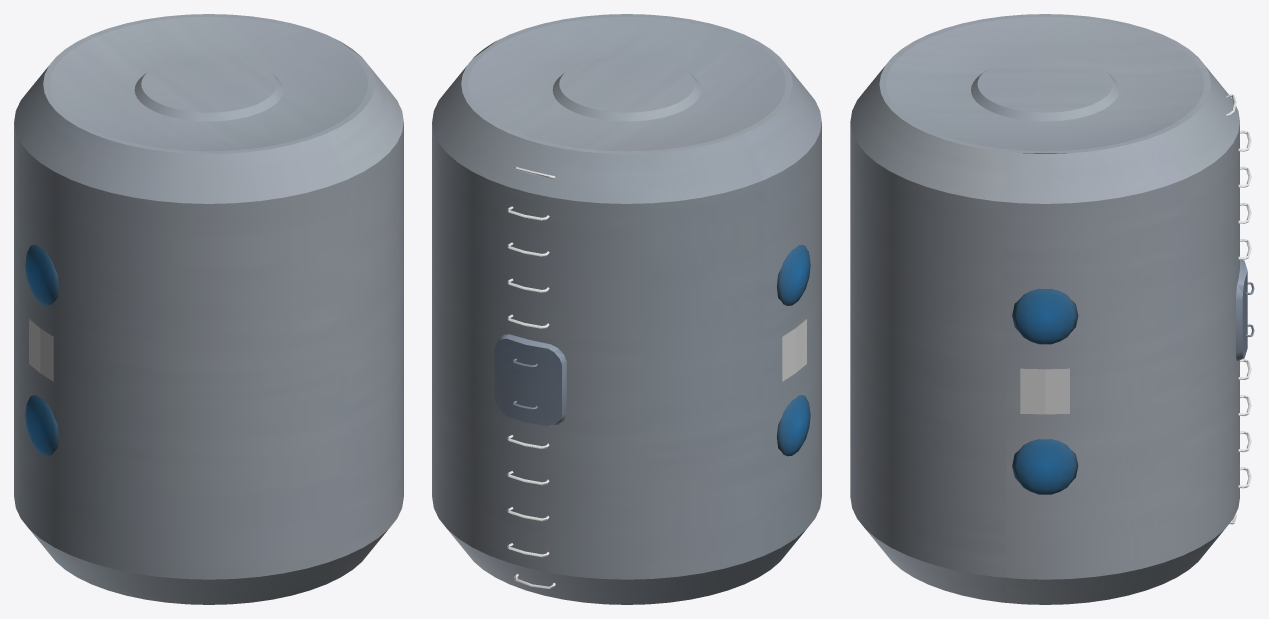
File: MPL_Exterior.fbx
3 views of the same model, side by side, from view 1: azimuth 30°, elevation 25°; view 2: azimuth 150°, elevation 25°; view 3: azimuth 270°, elevation 25° (orthographic).
Visible parts, largest first — view 1: MPL, Window 3, Window 4, Decal; view 2: MPL, Ladder, Window 3, Window 4, Decal; view 3: MPL, Window 2, Window 1, Decal2, Ladder.
Part boxes in pixels (x1,y1,x2,y2): MPL: (14, 14, 403, 604); Window 3: (25, 395, 58, 456); Window 4: (25, 244, 59, 305); Decal: (29, 319, 53, 381); MPL: (432, 14, 821, 604); Ladder: (507, 166, 555, 588); Window 3: (777, 395, 810, 456); Window 4: (776, 244, 810, 305); Decal: (782, 319, 806, 381); MPL: (850, 14, 1254, 604); Window 2: (1012, 288, 1078, 344); Window 1: (1012, 439, 1078, 494); Decal2: (1020, 368, 1069, 414); Ladder: (1226, 94, 1251, 524).
Size of what is drawn, in the model's own units: 3 by 3.75 by 3.05.
